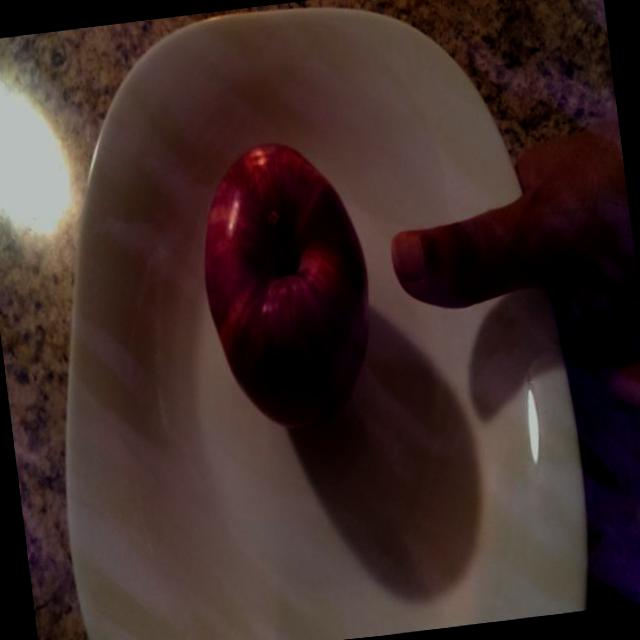Apple: (182, 119, 392, 442)
Finger: (380, 200, 502, 322)
